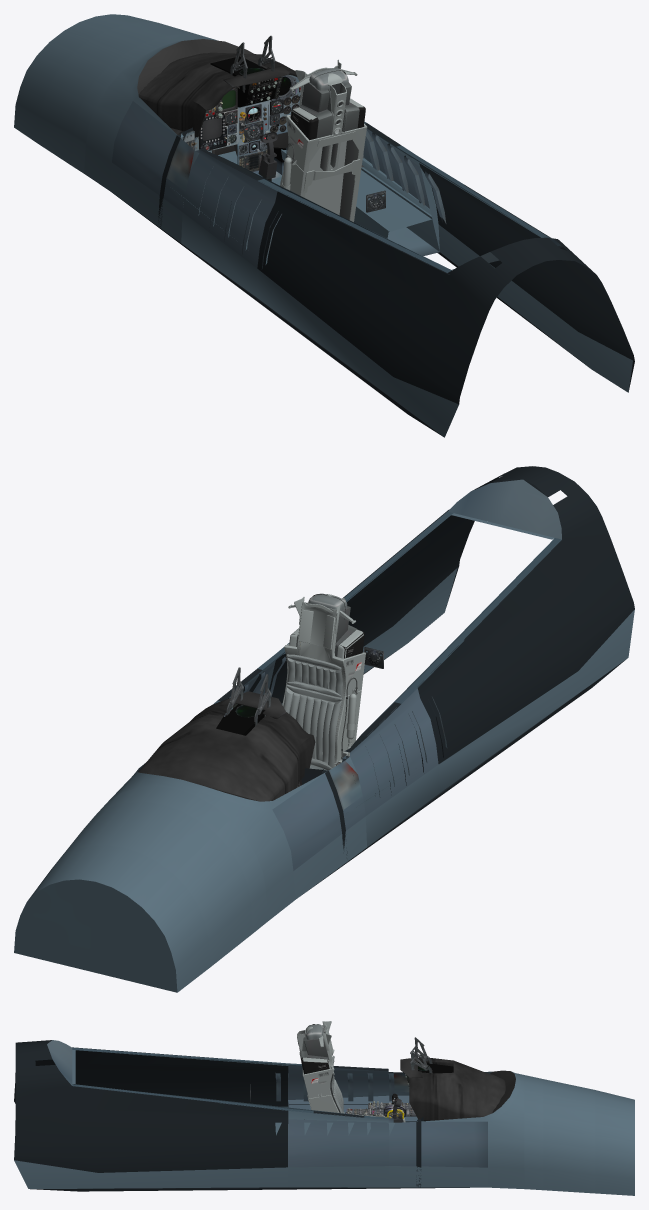
File: f15-cockpit.glb
3 renders of one model, top to bottom at view 1: azimuth 30°, elevation 25°; view 2: azimuth 150°, elevation 25°; view 3: azimuth 270°, elevation 25°, orthographic. The views are drawn at different scales.
Visible parts, largest first — view 1: InsideStructure, aces2, GlareShield, Consoles, SideBeams, FrontBulkhead, main-instrument-panel, mpcd-mount, hud-glass-mount, casing, HudGlareShield, stick-handle-parts (+1 smaller); view 2: InsideStructure, GlareShield, aces2, seat-cushion, SideBeams, hud-glass-mount, casing; view 3: InsideStructure, GlareShield, aces2, SideBeams, Consoles, seat-cushion, FrontBulkhead, hud-glass-mount, HudGlareShield.
Boxes of the visible parts, box(x1,y1,x2,y2) form: InsideStructure: box(14, 14, 634, 437); aces2: box(280, 59, 367, 222); GlareShield: box(138, 52, 297, 137); Consoles: box(179, 149, 432, 238); SideBeams: box(196, 130, 446, 269); FrontBulkhead: box(137, 39, 288, 155); main-instrument-panel: box(194, 74, 300, 176); mpcd-mount: box(194, 113, 227, 150); hud-glass-mount: box(230, 35, 275, 92); casing: box(210, 56, 281, 107); HudGlareShield: box(223, 66, 289, 87); stick-handle-parts: box(258, 132, 277, 179); InsideStructure: box(14, 466, 634, 992); GlareShield: box(138, 699, 315, 801); aces2: box(282, 594, 365, 766); seat-cushion: box(283, 593, 347, 770); SideBeams: box(228, 656, 447, 797); hud-glass-mount: box(226, 667, 271, 725); casing: box(216, 704, 264, 735); InsideStructure: box(14, 1040, 634, 1195); GlareShield: box(409, 1057, 505, 1120); aces2: box(297, 1021, 405, 1122); SideBeams: box(275, 1072, 373, 1135); Consoles: box(288, 1095, 417, 1122); seat-cushion: box(306, 1024, 343, 1113); FrontBulkhead: box(490, 1070, 515, 1113); hud-glass-mount: box(410, 1037, 432, 1073); HudGlareShield: box(400, 1058, 422, 1077).
Size of what is drawn, in the model's own units: 1.27 by 1.34 by 5.34.
Materials: 48 (43 with a texture image).
